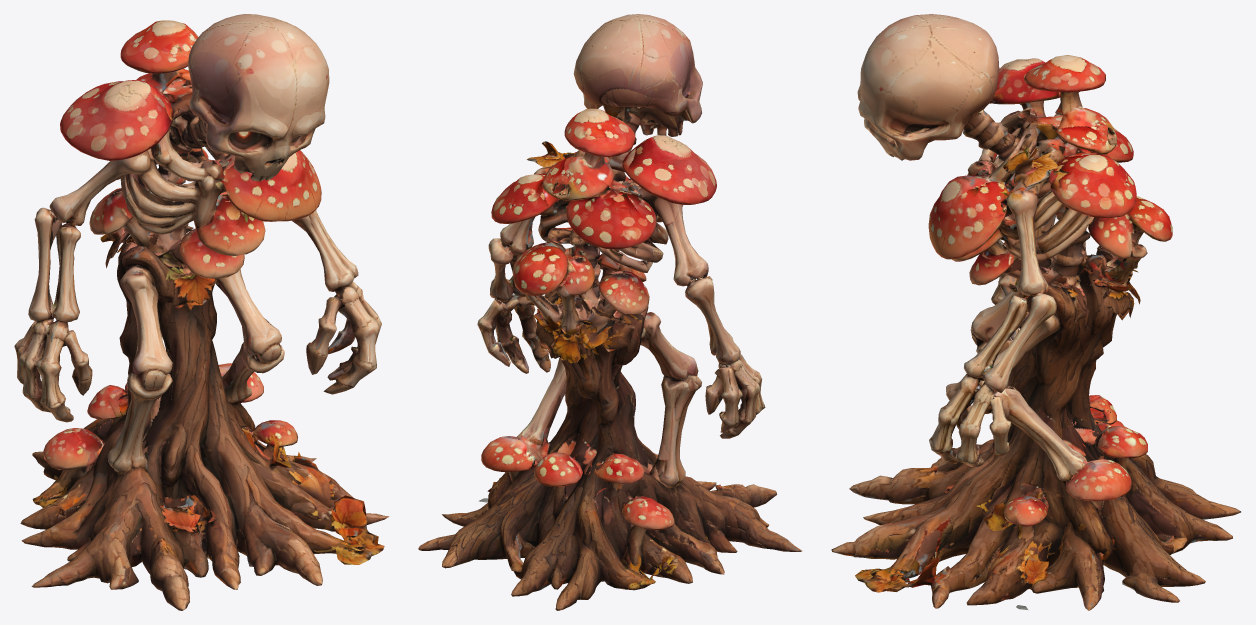
3 views of the same model, side by side, from view 1: azimuth 30°, elevation 25°; view 2: azimuth 150°, elevation 25°; view 3: azimuth 270°, elevation 25° (orthographic). The views are drawn at different scales.
Parts seen in each view (by area): view 1: surface_7; view 2: surface_7; view 3: surface_7.
Boxes of the visible parts, x1,y1,x2,y2 form: surface_7: [14, 14, 389, 610]; surface_7: [418, 14, 802, 610]; surface_7: [831, 14, 1240, 610].
Size of the model in its own units: 0.6872 by 1 by 0.7063.
Materials: 1 (1 with a texture image).
